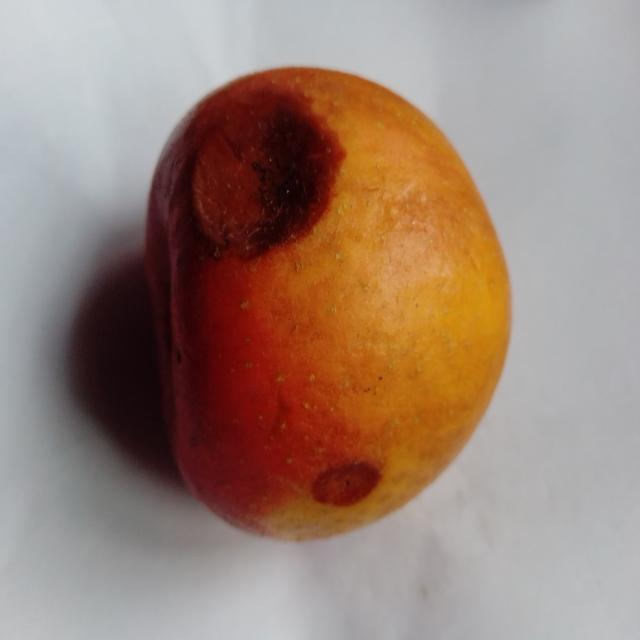apple: (147, 69, 509, 539)
